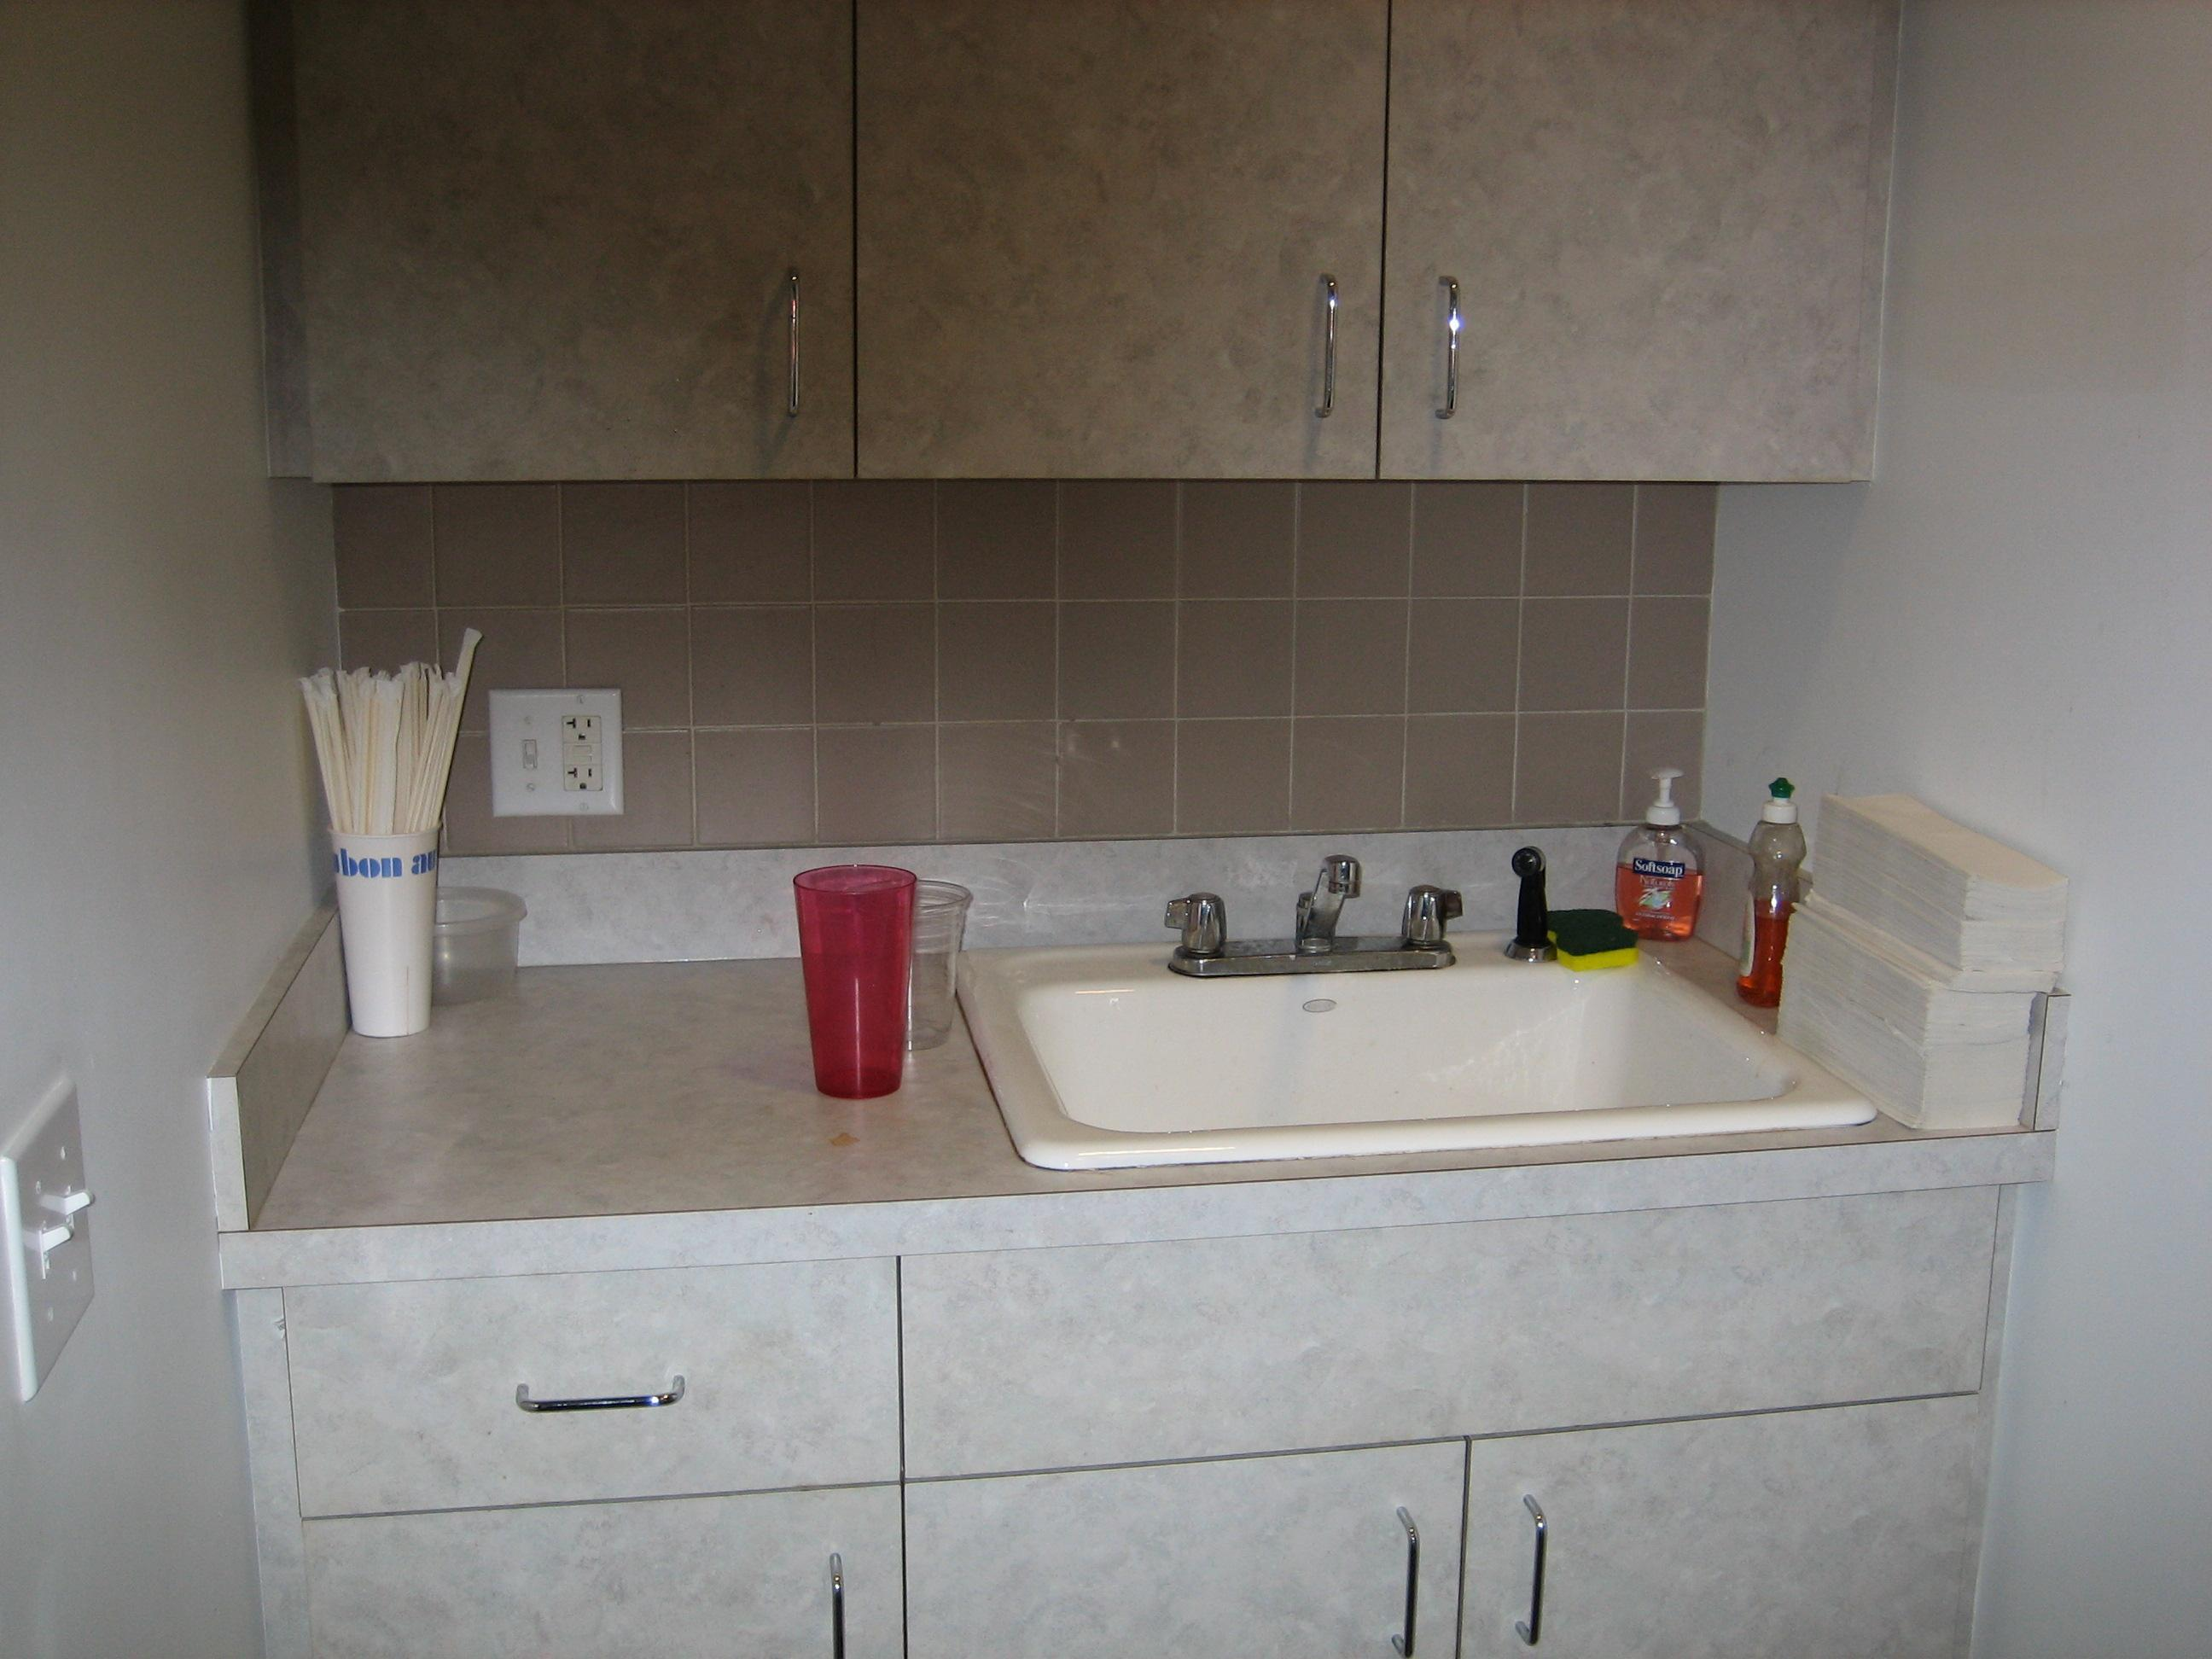Lavaplatos: (995, 871, 1897, 1246)
